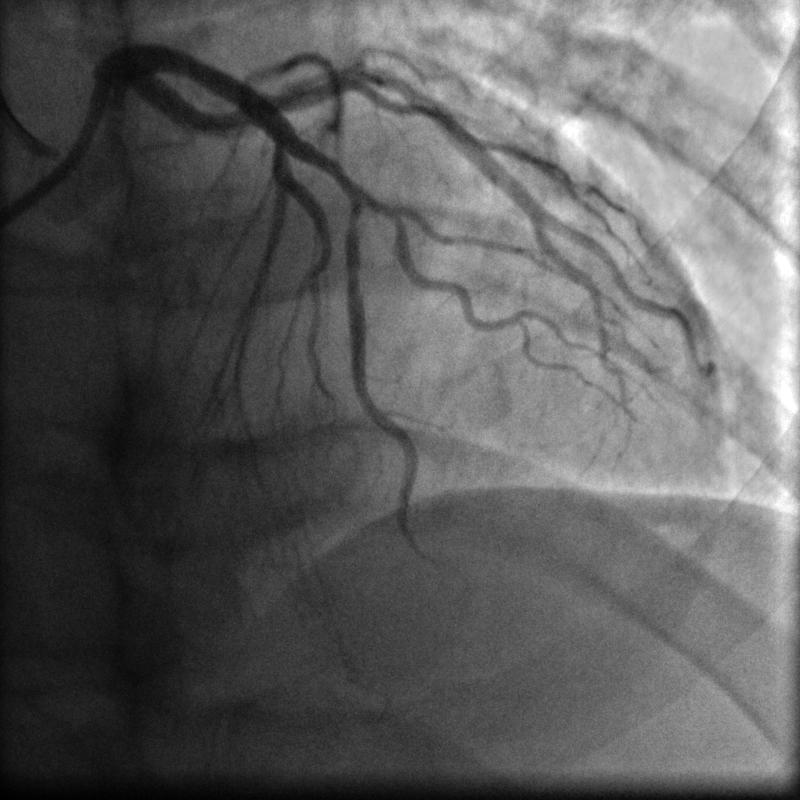Stenosis: (337, 183, 366, 238)
